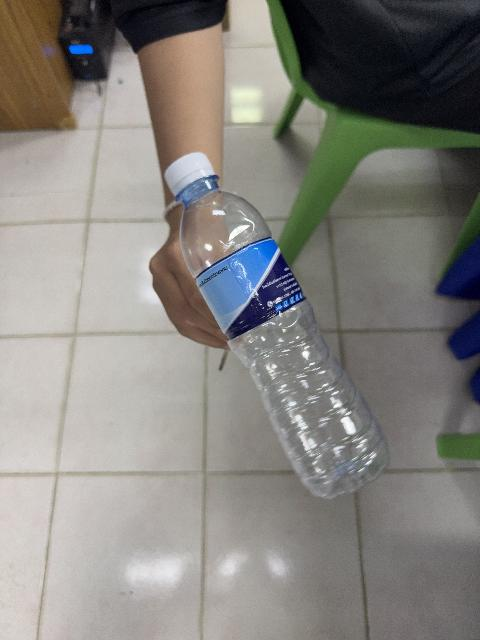bottle: (165, 153, 389, 497)
